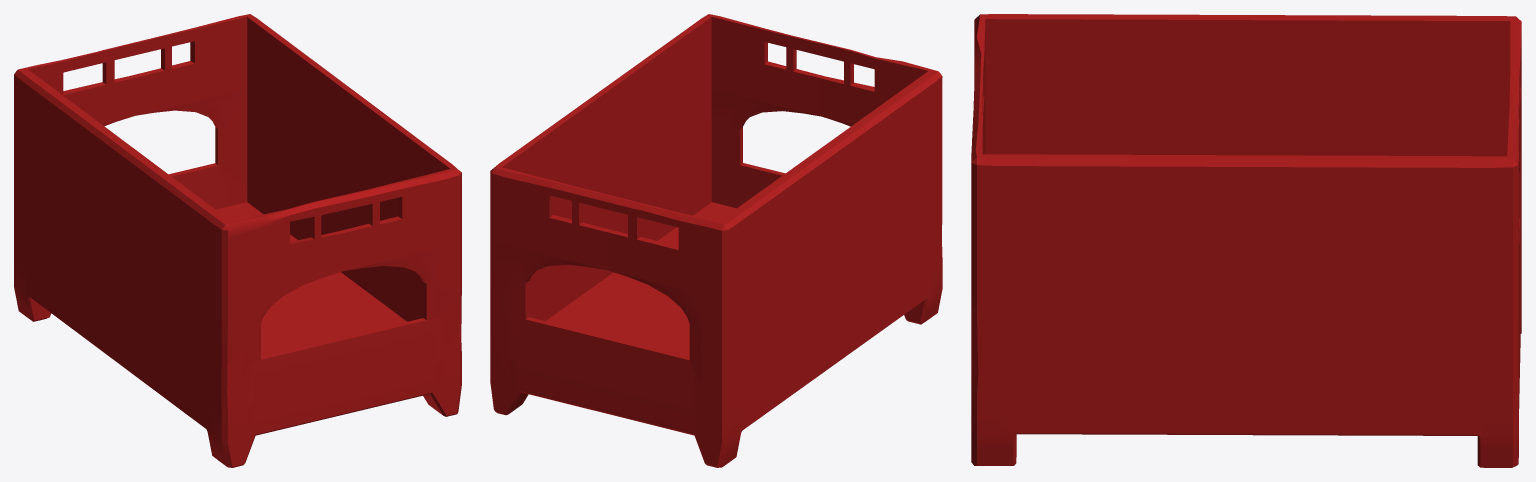
Rendered from PetiteCaisse.fbx.
3 views of the same model, side by side, from view 1: azimuth 30°, elevation 25°; view 2: azimuth 150°, elevation 25°; view 3: azimuth 270°, elevation 25° (orthographic). The views are drawn at different scales.
Parts seen in each view (by area): view 1: CaisseEpicerie; view 2: CaisseEpicerie; view 3: CaisseEpicerie.
Part boxes in pixels (bbox=[...]): CaisseEpicerie: bbox=[14, 14, 461, 467]; CaisseEpicerie: bbox=[490, 14, 942, 467]; CaisseEpicerie: bbox=[971, 14, 1521, 467].
Size of the model in its own units: 0.0406 by 0.0391 by 0.063.
